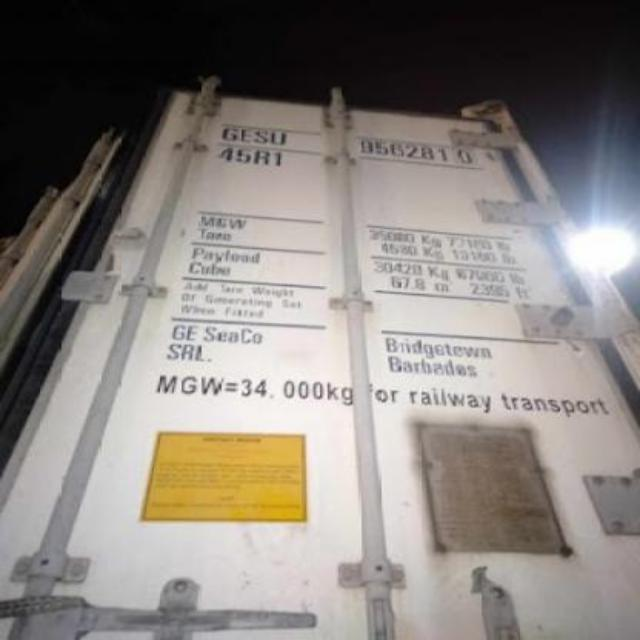0: (455, 146, 473, 166)
1: (436, 145, 450, 165)
2: (404, 143, 418, 161)
5: (374, 138, 390, 158)
6: (388, 142, 404, 158)
8: (421, 145, 434, 163)
9: (360, 138, 374, 156)
E: (239, 126, 253, 144)
G: (219, 126, 239, 144)
S: (254, 128, 270, 146)
U: (270, 130, 288, 146)
